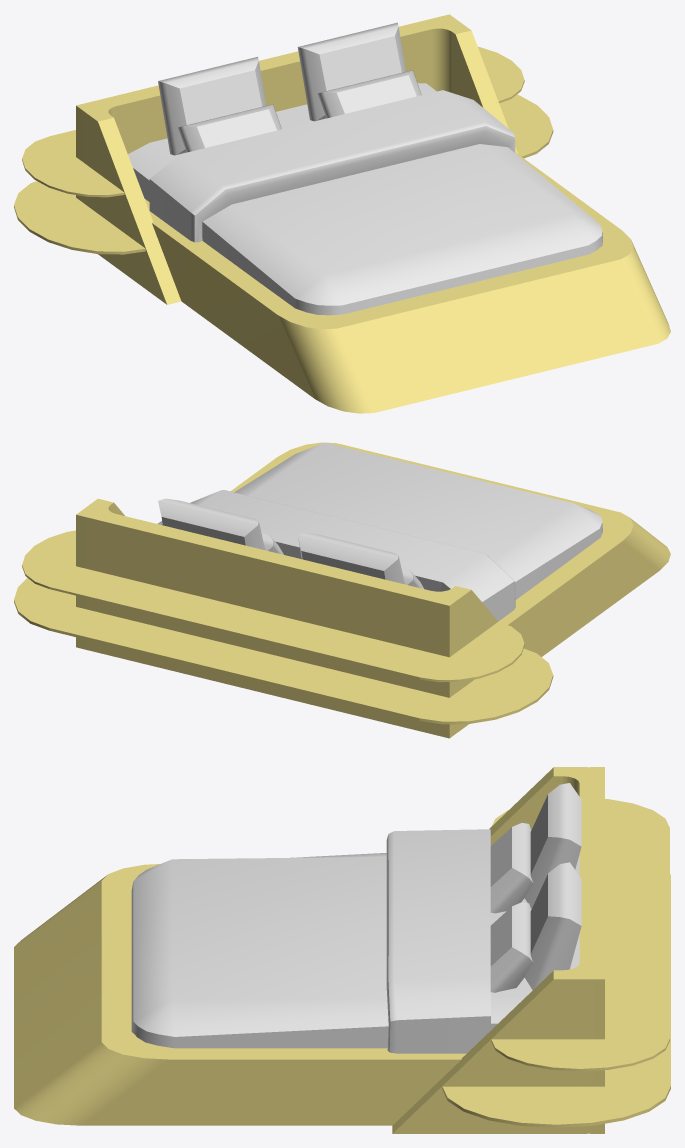
Rendered from bed_sheets_v3.fbx.
3 views of the same model, one above another, from view 1: azimuth 30°, elevation 25°; view 2: azimuth 150°, elevation 25°; view 3: azimuth 270°, elevation 25° (orthographic). The views are drawn at different scales.
Parts seen in each view (by area): view 1: polySurface2, pCube4, pCube5, pCube7, pCylinder1, pCube8, pCylinder2, polySurface1; view 2: pCube5, polySurface2, pCylinder1, pCylinder2, pCube4, pCube7, pCube8; view 3: polySurface2, pCube4, pCube5, pCylinder2, pCylinder1, pCube7, pCube8, polySurface1.
Boxes of the visible parts, box(x1,y1,x2,y2) form: polySurface2: box(149, 90, 602, 315); pCube4: box(145, 152, 670, 413); pCube5: box(76, 14, 517, 304); pCube7: box(158, 22, 405, 155); pCylinder1: box(14, 94, 553, 254); pCube8: box(178, 70, 421, 152); pCylinder2: box(22, 46, 524, 197); polySurface1: box(128, 83, 436, 201); pCube5: box(76, 498, 498, 738); polySurface2: box(157, 442, 602, 621); pCylinder1: box(14, 578, 553, 724); pCylinder2: box(22, 530, 524, 682); pCube4: box(230, 442, 670, 656); pCube7: box(158, 498, 404, 584); pCube8: box(261, 533, 423, 588); polySurface2: box(131, 829, 490, 1053); pCube4: box(14, 864, 466, 1125); pCube5: box(392, 767, 604, 1133); pCylinder2: box(491, 799, 669, 1071); pCylinder1: box(442, 874, 670, 1127); pCube7: box(524, 783, 581, 989); pCube8: box(490, 823, 533, 992); polySurface1: box(490, 854, 579, 1029).
Bounding box in the file's own units: 374 × 107 × 360.
